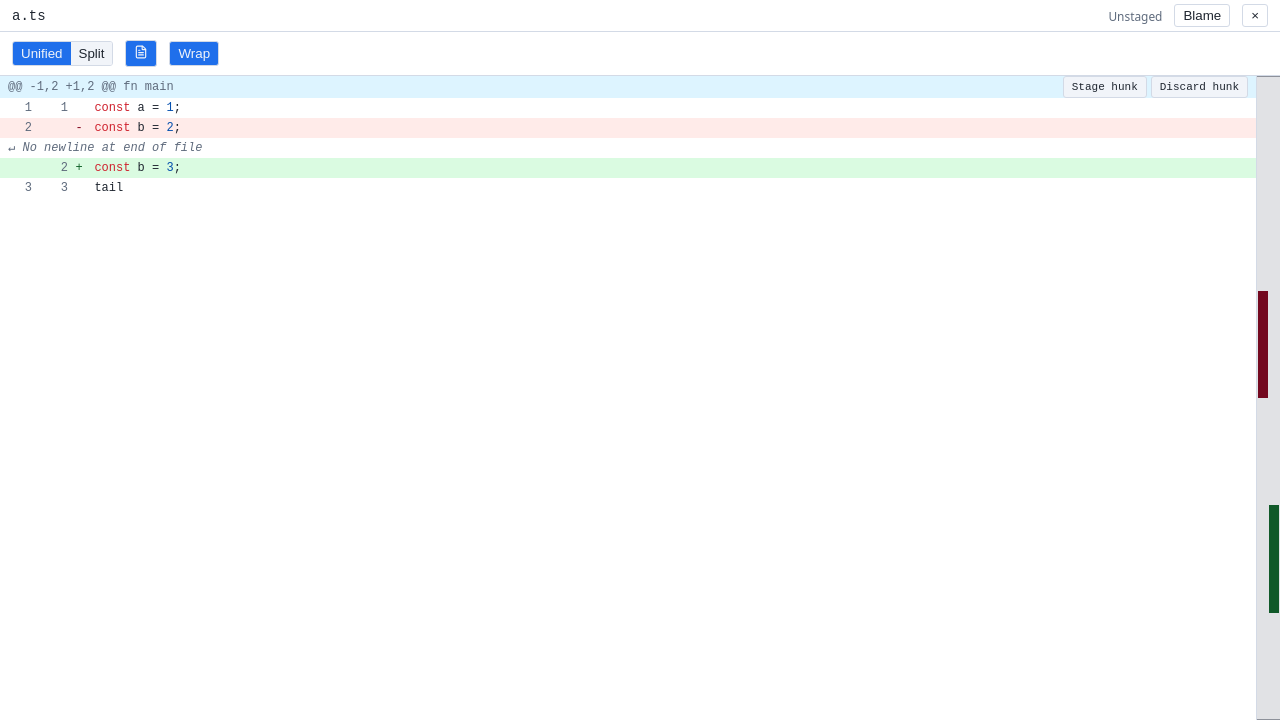
Test: CenterDiff › whole-file toggle shows the full text and persists the choice
Check: the text "tail" is shown, box [94,181,123,195]
Click the button named "Whole file".
click(141, 54)  # box [125,40,157,67]
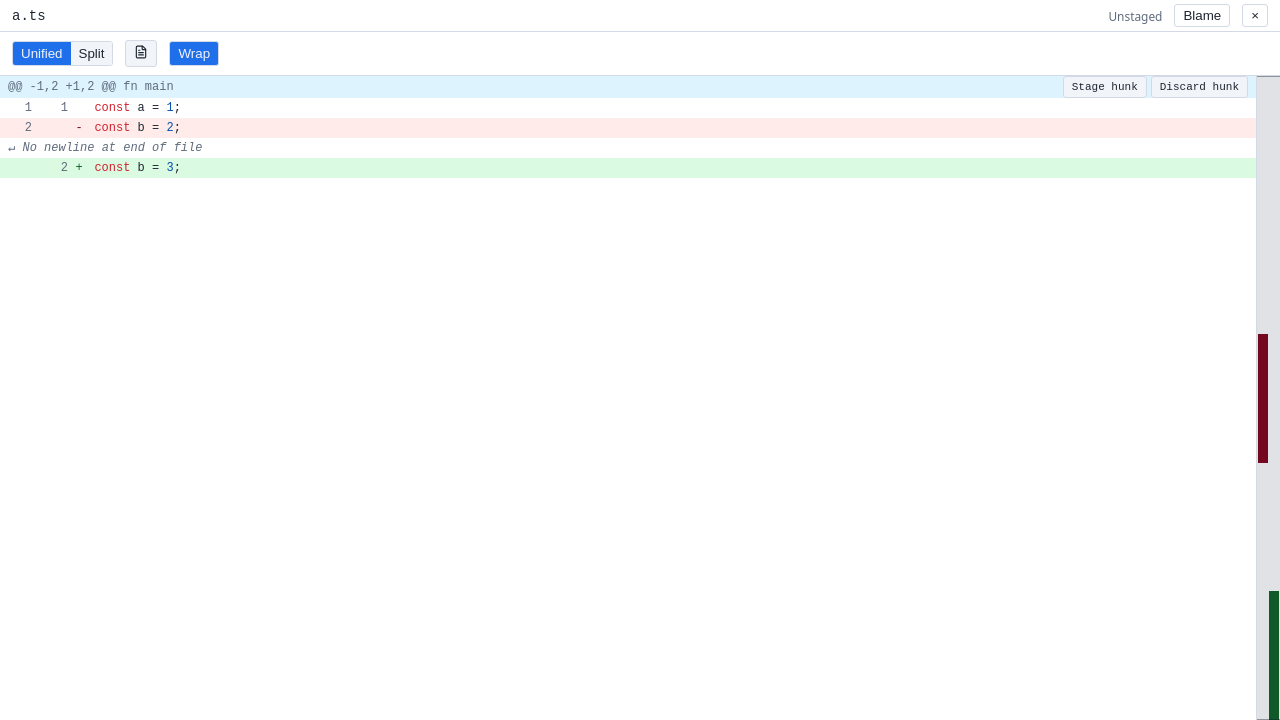
Check: the text "tail" is gone
